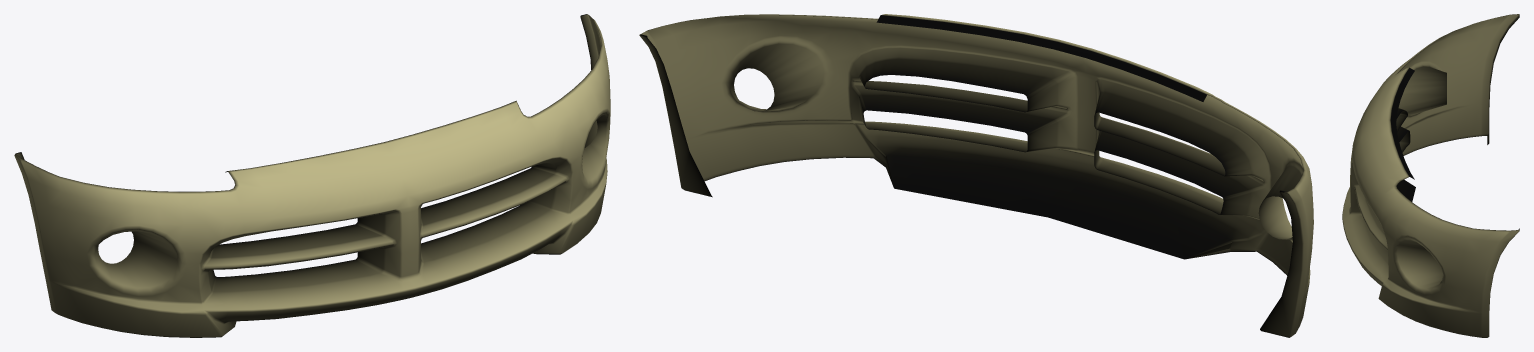
File: Viper_FB_04_Duco.fbx
3 renders of one model, left to right at view 1: azimuth 30°, elevation 25°; view 2: azimuth 150°, elevation 25°; view 3: azimuth 270°, elevation 25°, orthographic. The views are drawn at different scales.
Visible parts, largest first — view 1: Viper_FB_04_Duco; view 2: Viper_FB_04_Duco; view 3: Viper_FB_04_Duco.
Boxes of the visible parts, x1,y1,x2,y2 form: Viper_FB_04_Duco: (14,14,610,337); Viper_FB_04_Duco: (639,14,1313,337); Viper_FB_04_Duco: (1342,14,1519,337).
Size of the model in its own units: 183 by 45.92 by 63.18.
